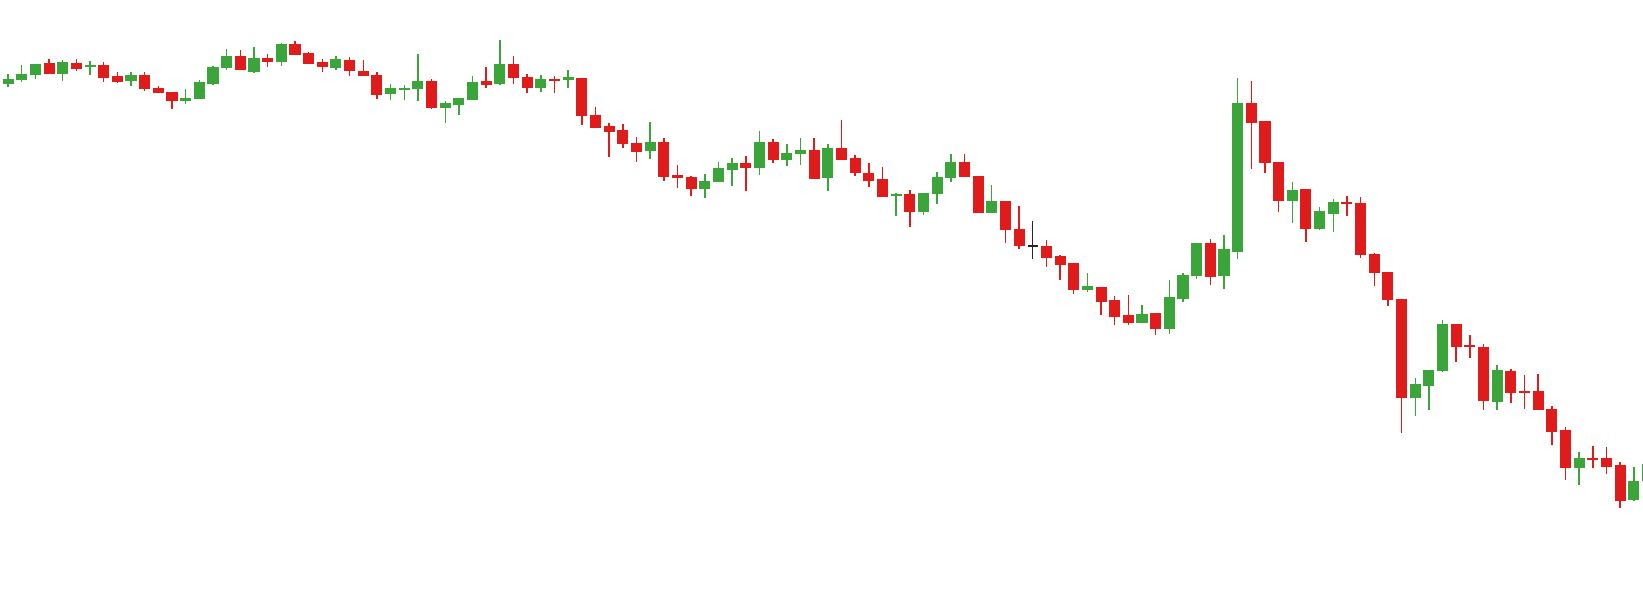sell: (943, 82, 1274, 216), (750, 120, 847, 179)
